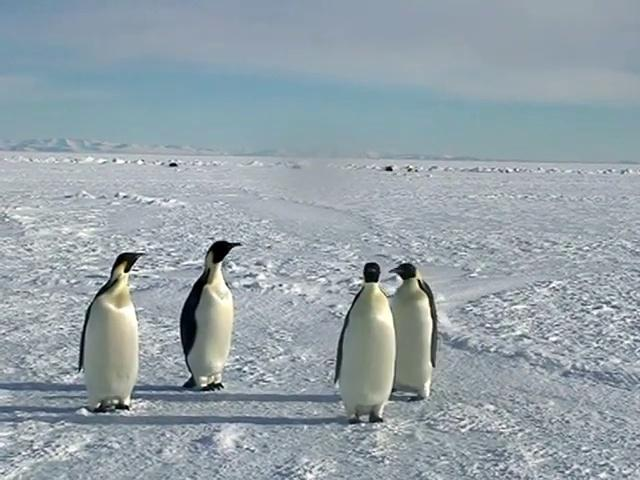animal: (335, 262, 395, 422)
